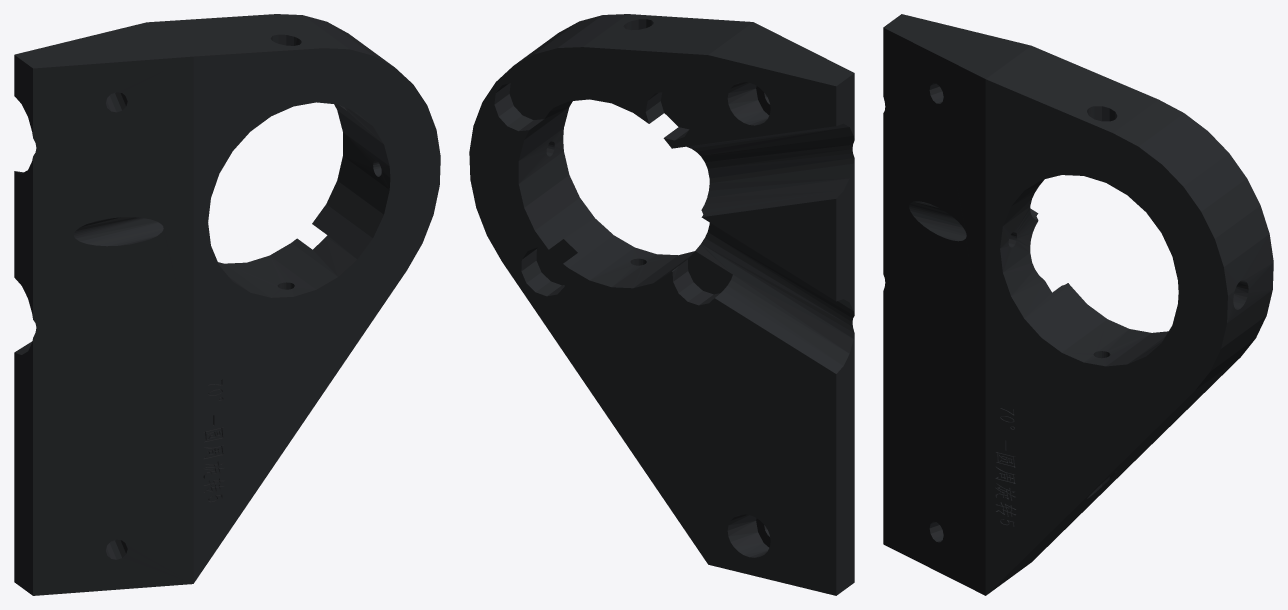
The model's file is right_bracket_link_vis.obj.
The picture shows the model from 3 angles, left to right: view 1: azimuth 30°, elevation 25°; view 2: azimuth 150°, elevation 25°; view 3: azimuth 330°, elevation 25°; orthographic projection. The views are drawn at different scales.
Visible parts, largest first — view 1: right_bracket_link; view 2: right_bracket_link; view 3: right_bracket_link.
Part boxes in pixels (left/top/right/bottom): right_bracket_link: left=14, top=14, right=440, bottom=595; right_bracket_link: left=469, top=14, right=854, bottom=595; right_bracket_link: left=883, top=14, right=1273, bottom=595.
Size of the model in its own units: 0.0845 by 0.112 by 0.018.
Materials: 1 (1 with a texture image).
